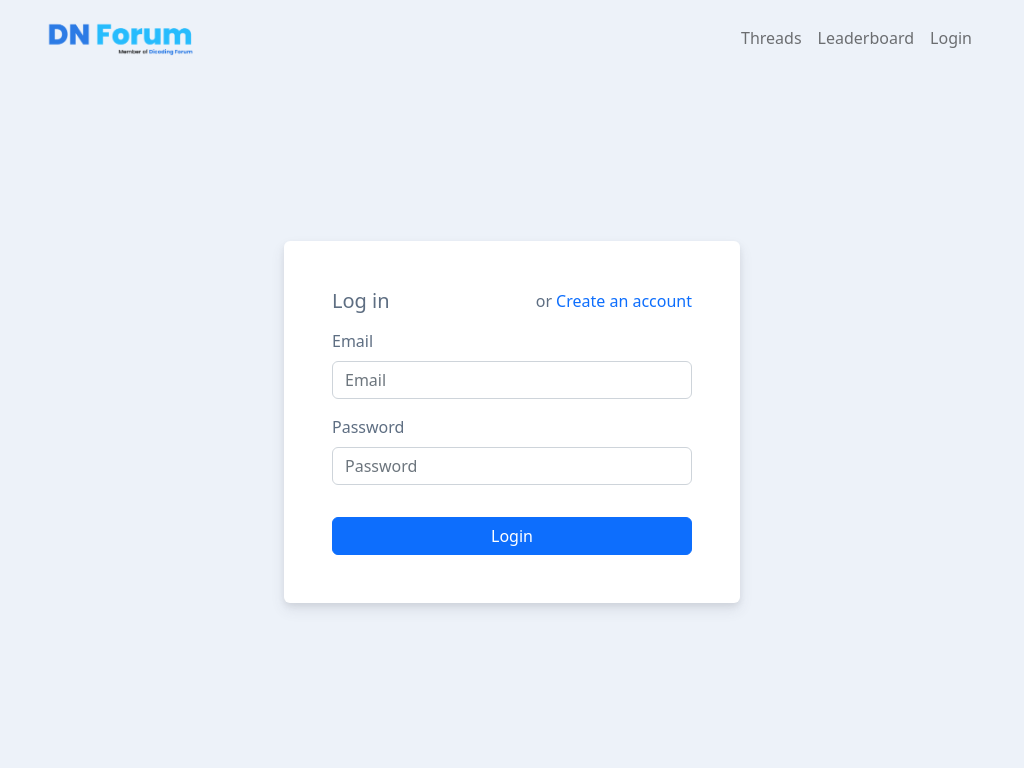
Test: Login spec › should display alert when email is empty
Click the button "Login" at (512, 536), box [332,517,692,555]
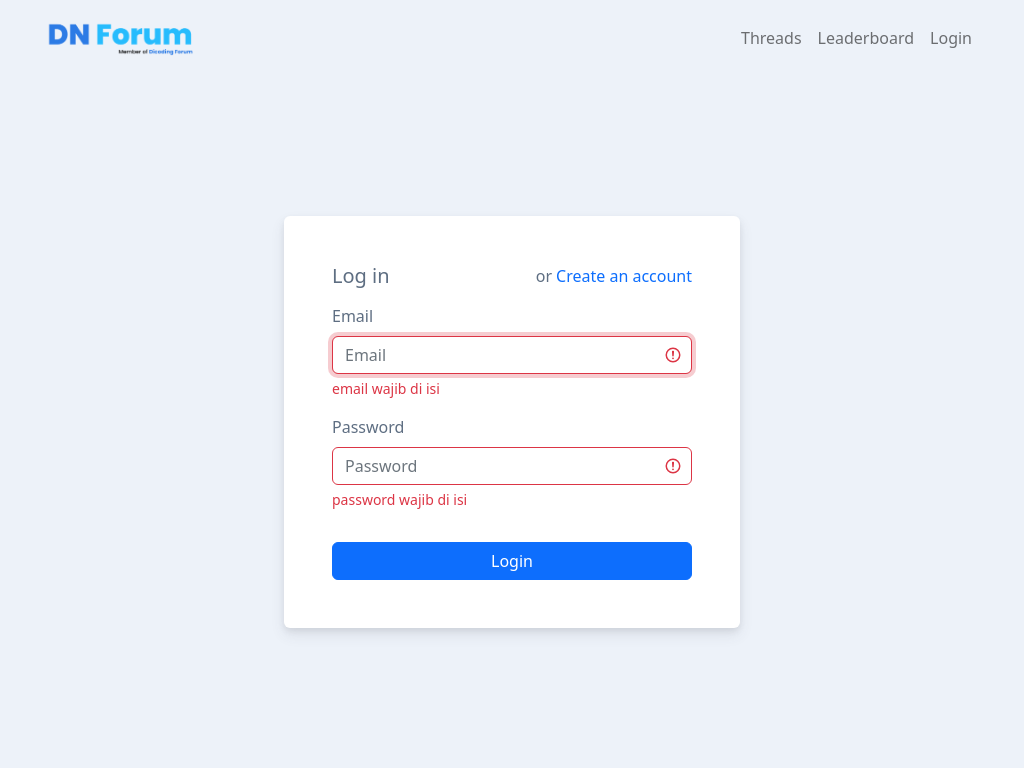
Now the text "email wajib di isi" is shown, box [332,379,440,398]
